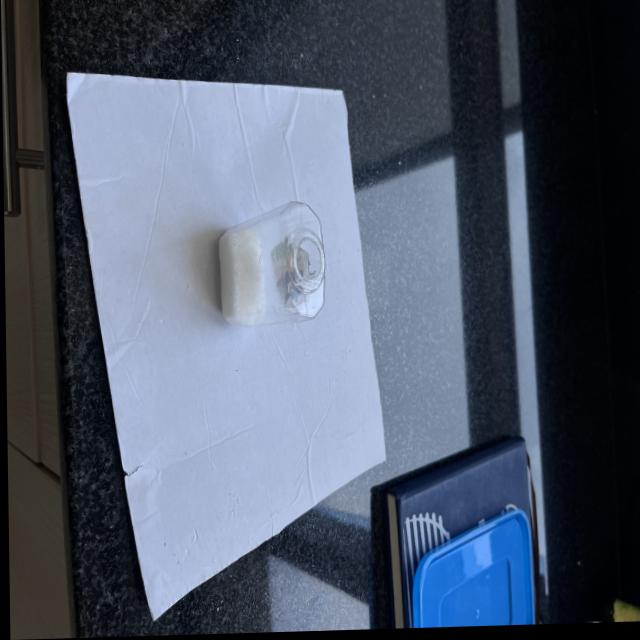salt: (216, 226, 267, 332)
